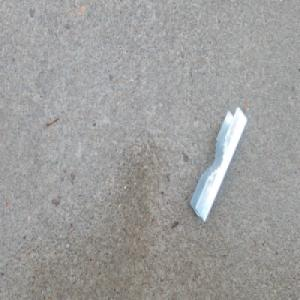ClampPart: (189, 105, 247, 225)
